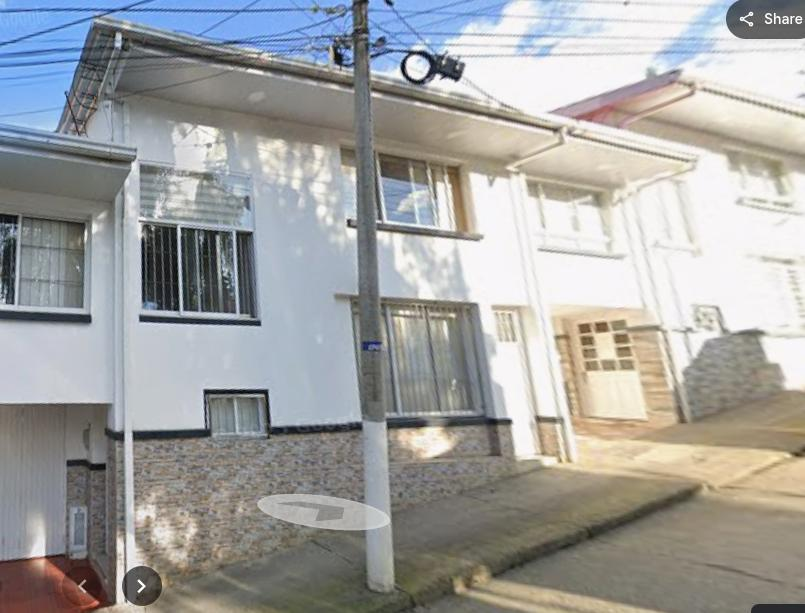casa: (88, 21, 377, 576), (373, 81, 692, 503), (556, 69, 804, 413), (0, 126, 132, 612)
poste: (353, 0, 389, 515), (366, 522, 394, 592)
